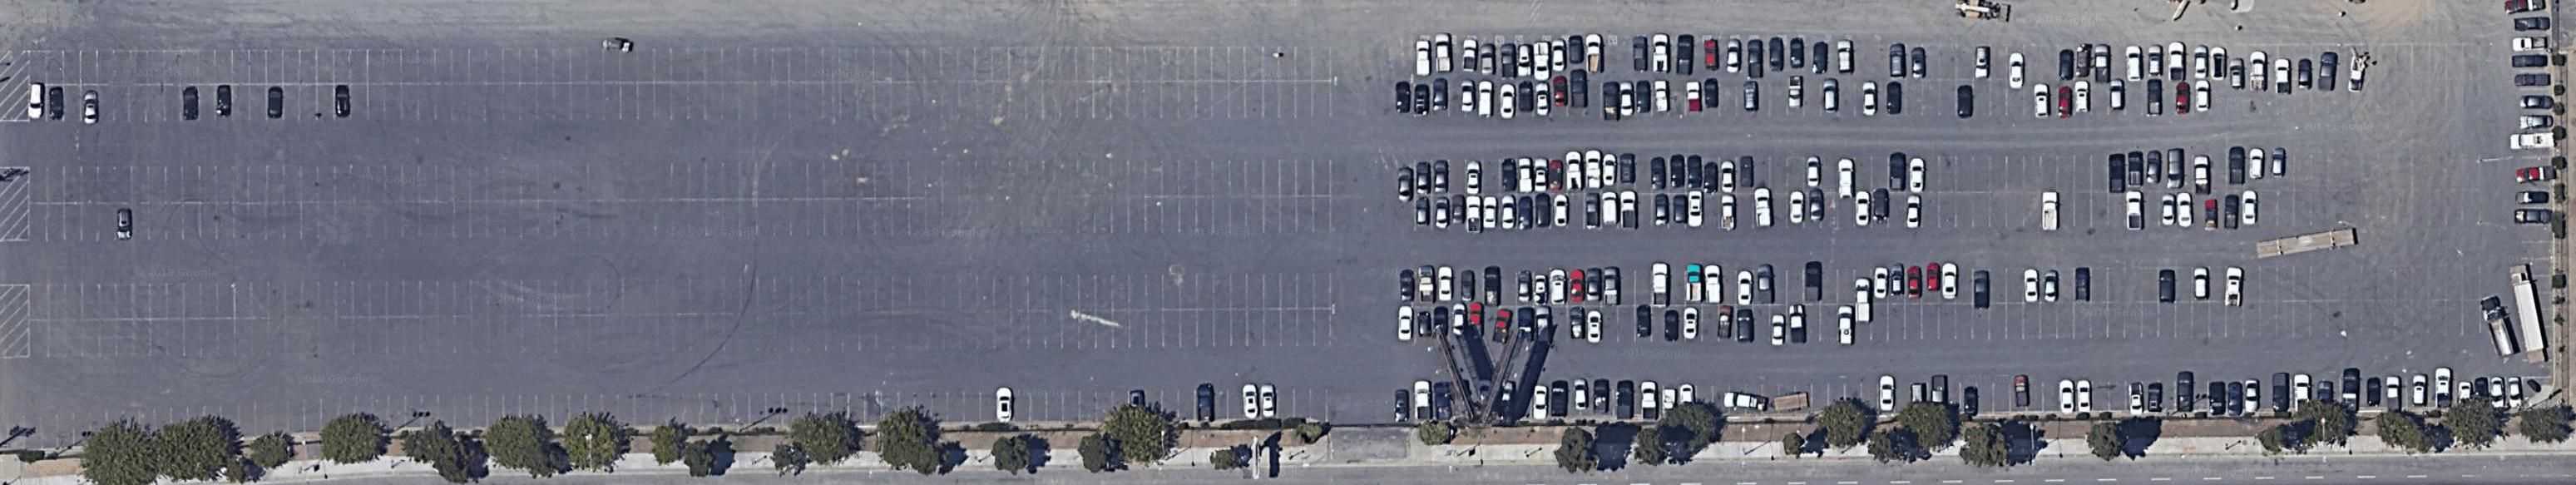parkingspot: (0, 386, 1331, 452), (26, 306, 1334, 360), (26, 270, 1334, 322), (26, 156, 1334, 206), (26, 194, 1334, 243), (26, 79, 1334, 125), (28, 43, 1332, 87), (1393, 375, 2527, 426), (1411, 30, 2481, 82), (1398, 299, 2482, 349), (1411, 187, 2482, 233), (1396, 151, 2482, 196), (1400, 261, 2482, 306), (1395, 77, 2481, 118), (2504, 0, 2556, 381)
